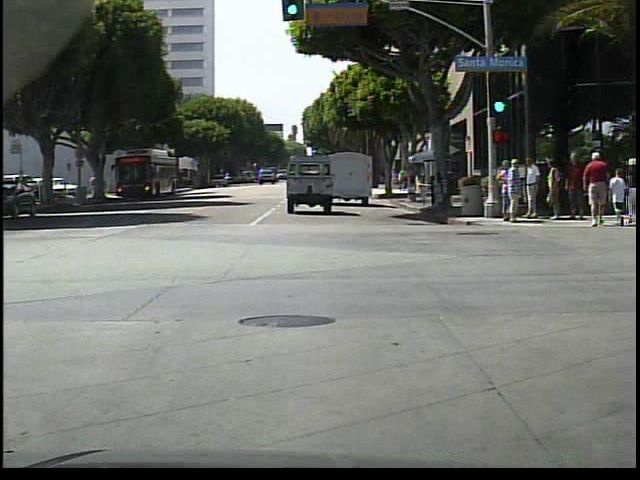person: (586, 148, 610, 231), (523, 157, 546, 226), (565, 151, 586, 220), (504, 158, 525, 226), (546, 159, 565, 225), (610, 166, 630, 225), (627, 158, 640, 226), (499, 160, 511, 223), (96, 176, 107, 201), (90, 174, 99, 198), (398, 170, 406, 193)
